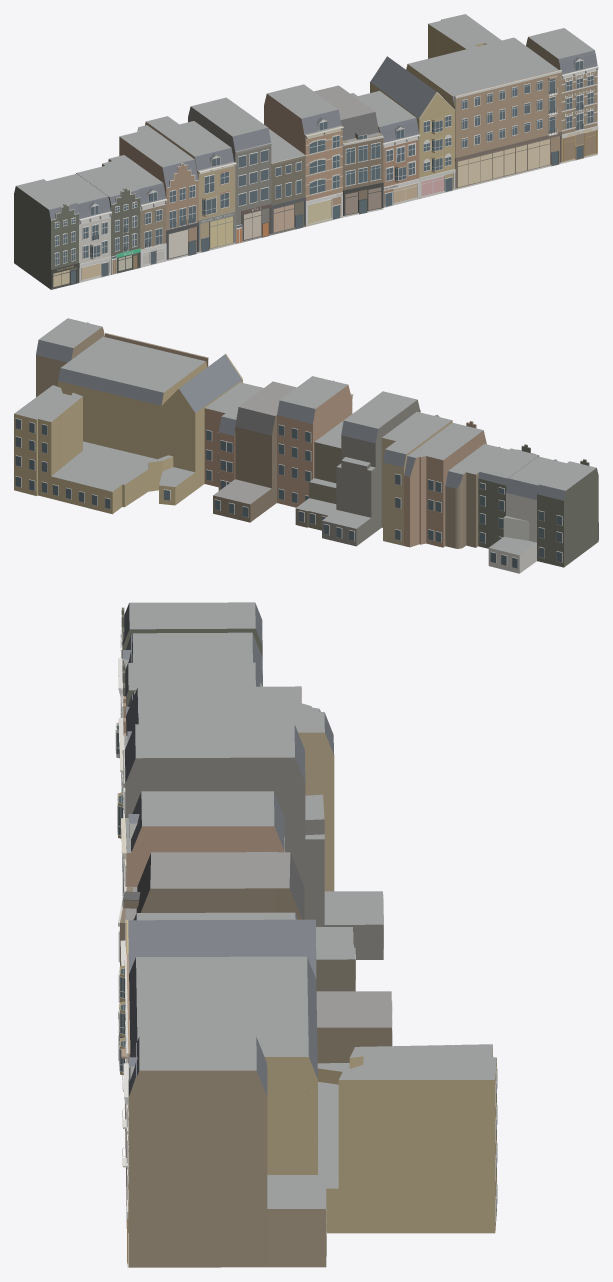
File: chunk-face-baerle-56-88.glb
3 views of the same model, one above another, from view 1: azimuth 30°, elevation 25°; view 2: azimuth 150°, elevation 25°; view 3: azimuth 270°, elevation 25° (orthographic). The views are drawn at different scales.
Parts seen in each view (by area): view 1: face-baerle-56-88; view 2: face-baerle-56-88; view 3: face-baerle-56-88.
Boxes of the visible parts, left/top/right/bottom form: face-baerle-56-88: left=14, top=14, right=598, bottom=289; face-baerle-56-88: left=14, top=318, right=598, bottom=573; face-baerle-56-88: left=115, top=602, right=497, bottom=1267.
Bounding box in the file's own units: 103 × 18.88 × 32.21.
